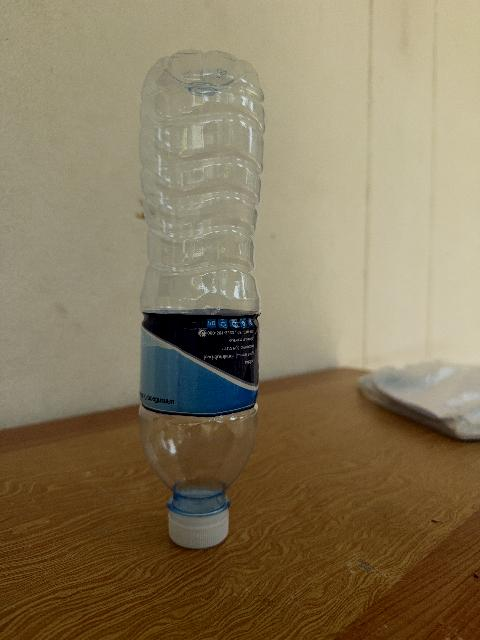bottle: (139, 51, 263, 548)
